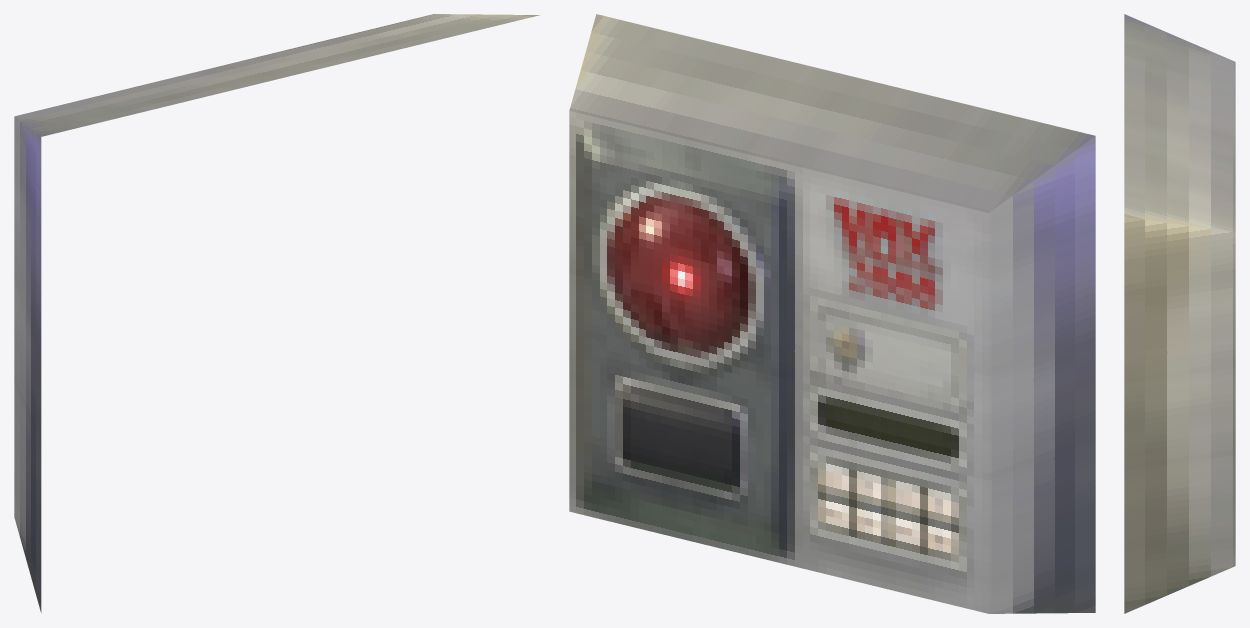
File: vox03.glb
The picture shows the model from 3 angles, left to right: view 1: azimuth 30°, elevation 25°; view 2: azimuth 150°, elevation 25°; view 3: azimuth 270°, elevation 25°; orthographic projection. The views are drawn at different scales.
Parts seen in each view (by area): view 1: vox03; view 2: vox03; view 3: vox03.
Boxes of the visible parts, x1=… form: vox03: x1=14, y1=14, x2=539, y2=612; vox03: x1=569, y1=14, x2=1095, y2=613; vox03: x1=1124, y1=14, x2=1235, y2=613.
Bounding box in the file's own units: 68.68 × 62.71 × 15.93.
Materials: 1 (1 with a texture image).
